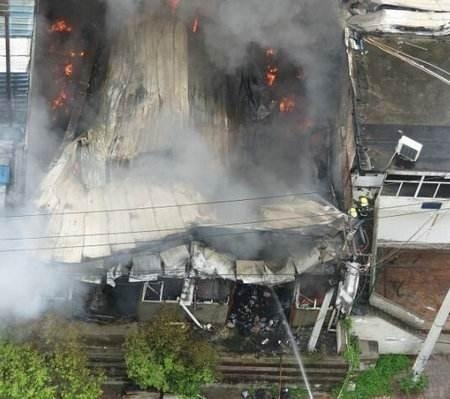fire: (47, 22, 84, 112), (47, 17, 71, 31), (278, 94, 296, 110), (264, 65, 278, 85)
